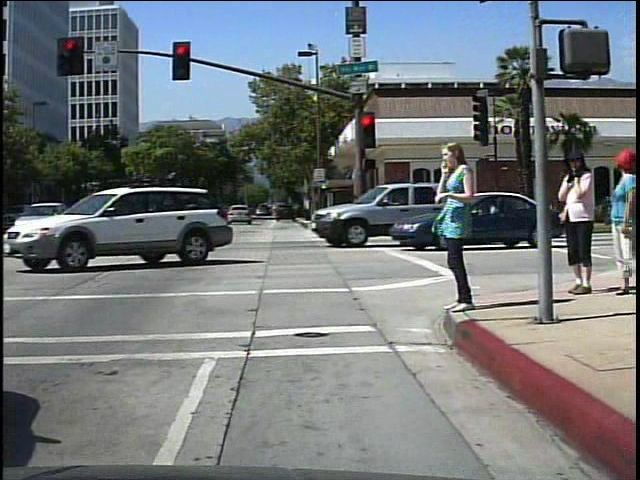person: (432, 134, 485, 314), (553, 146, 600, 300), (601, 146, 636, 300)
